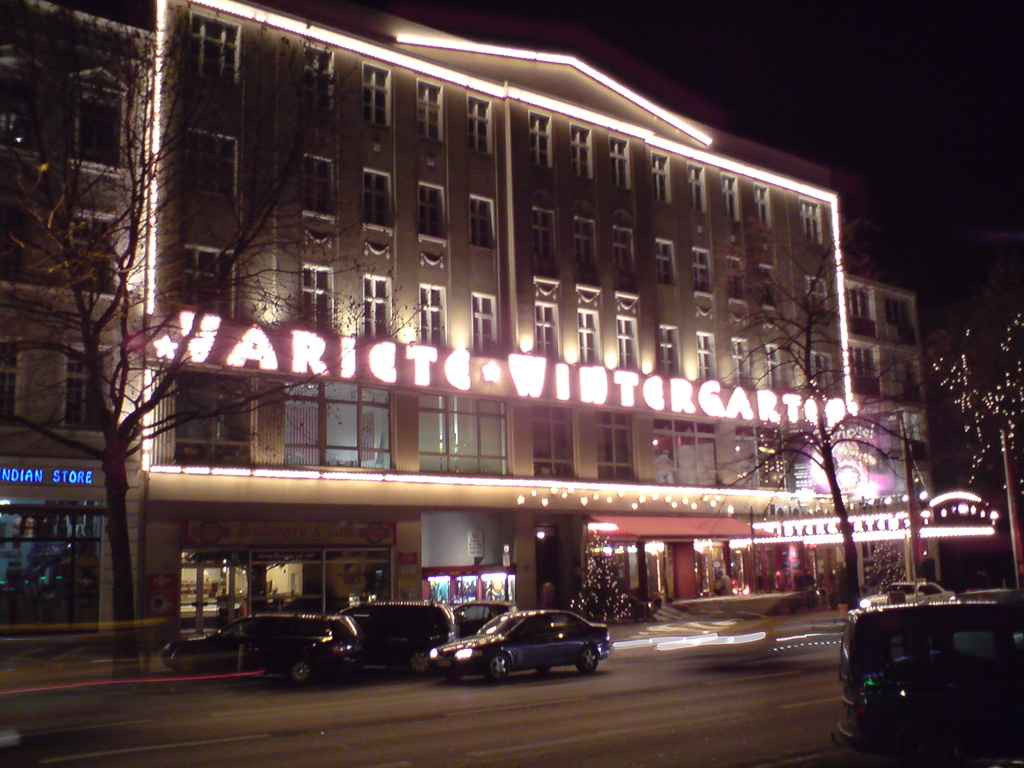cars: (824, 608, 1023, 767), (441, 613, 618, 686), (170, 613, 362, 680), (357, 600, 448, 668), (857, 575, 948, 611)
